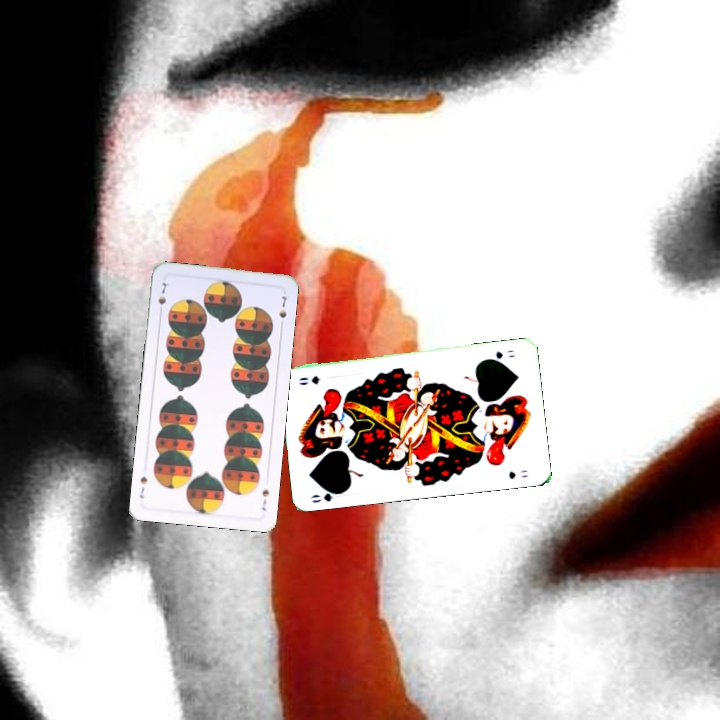GO: (307, 485, 347, 505), (481, 346, 517, 364)
S7: (154, 278, 169, 317), (257, 484, 271, 513)
